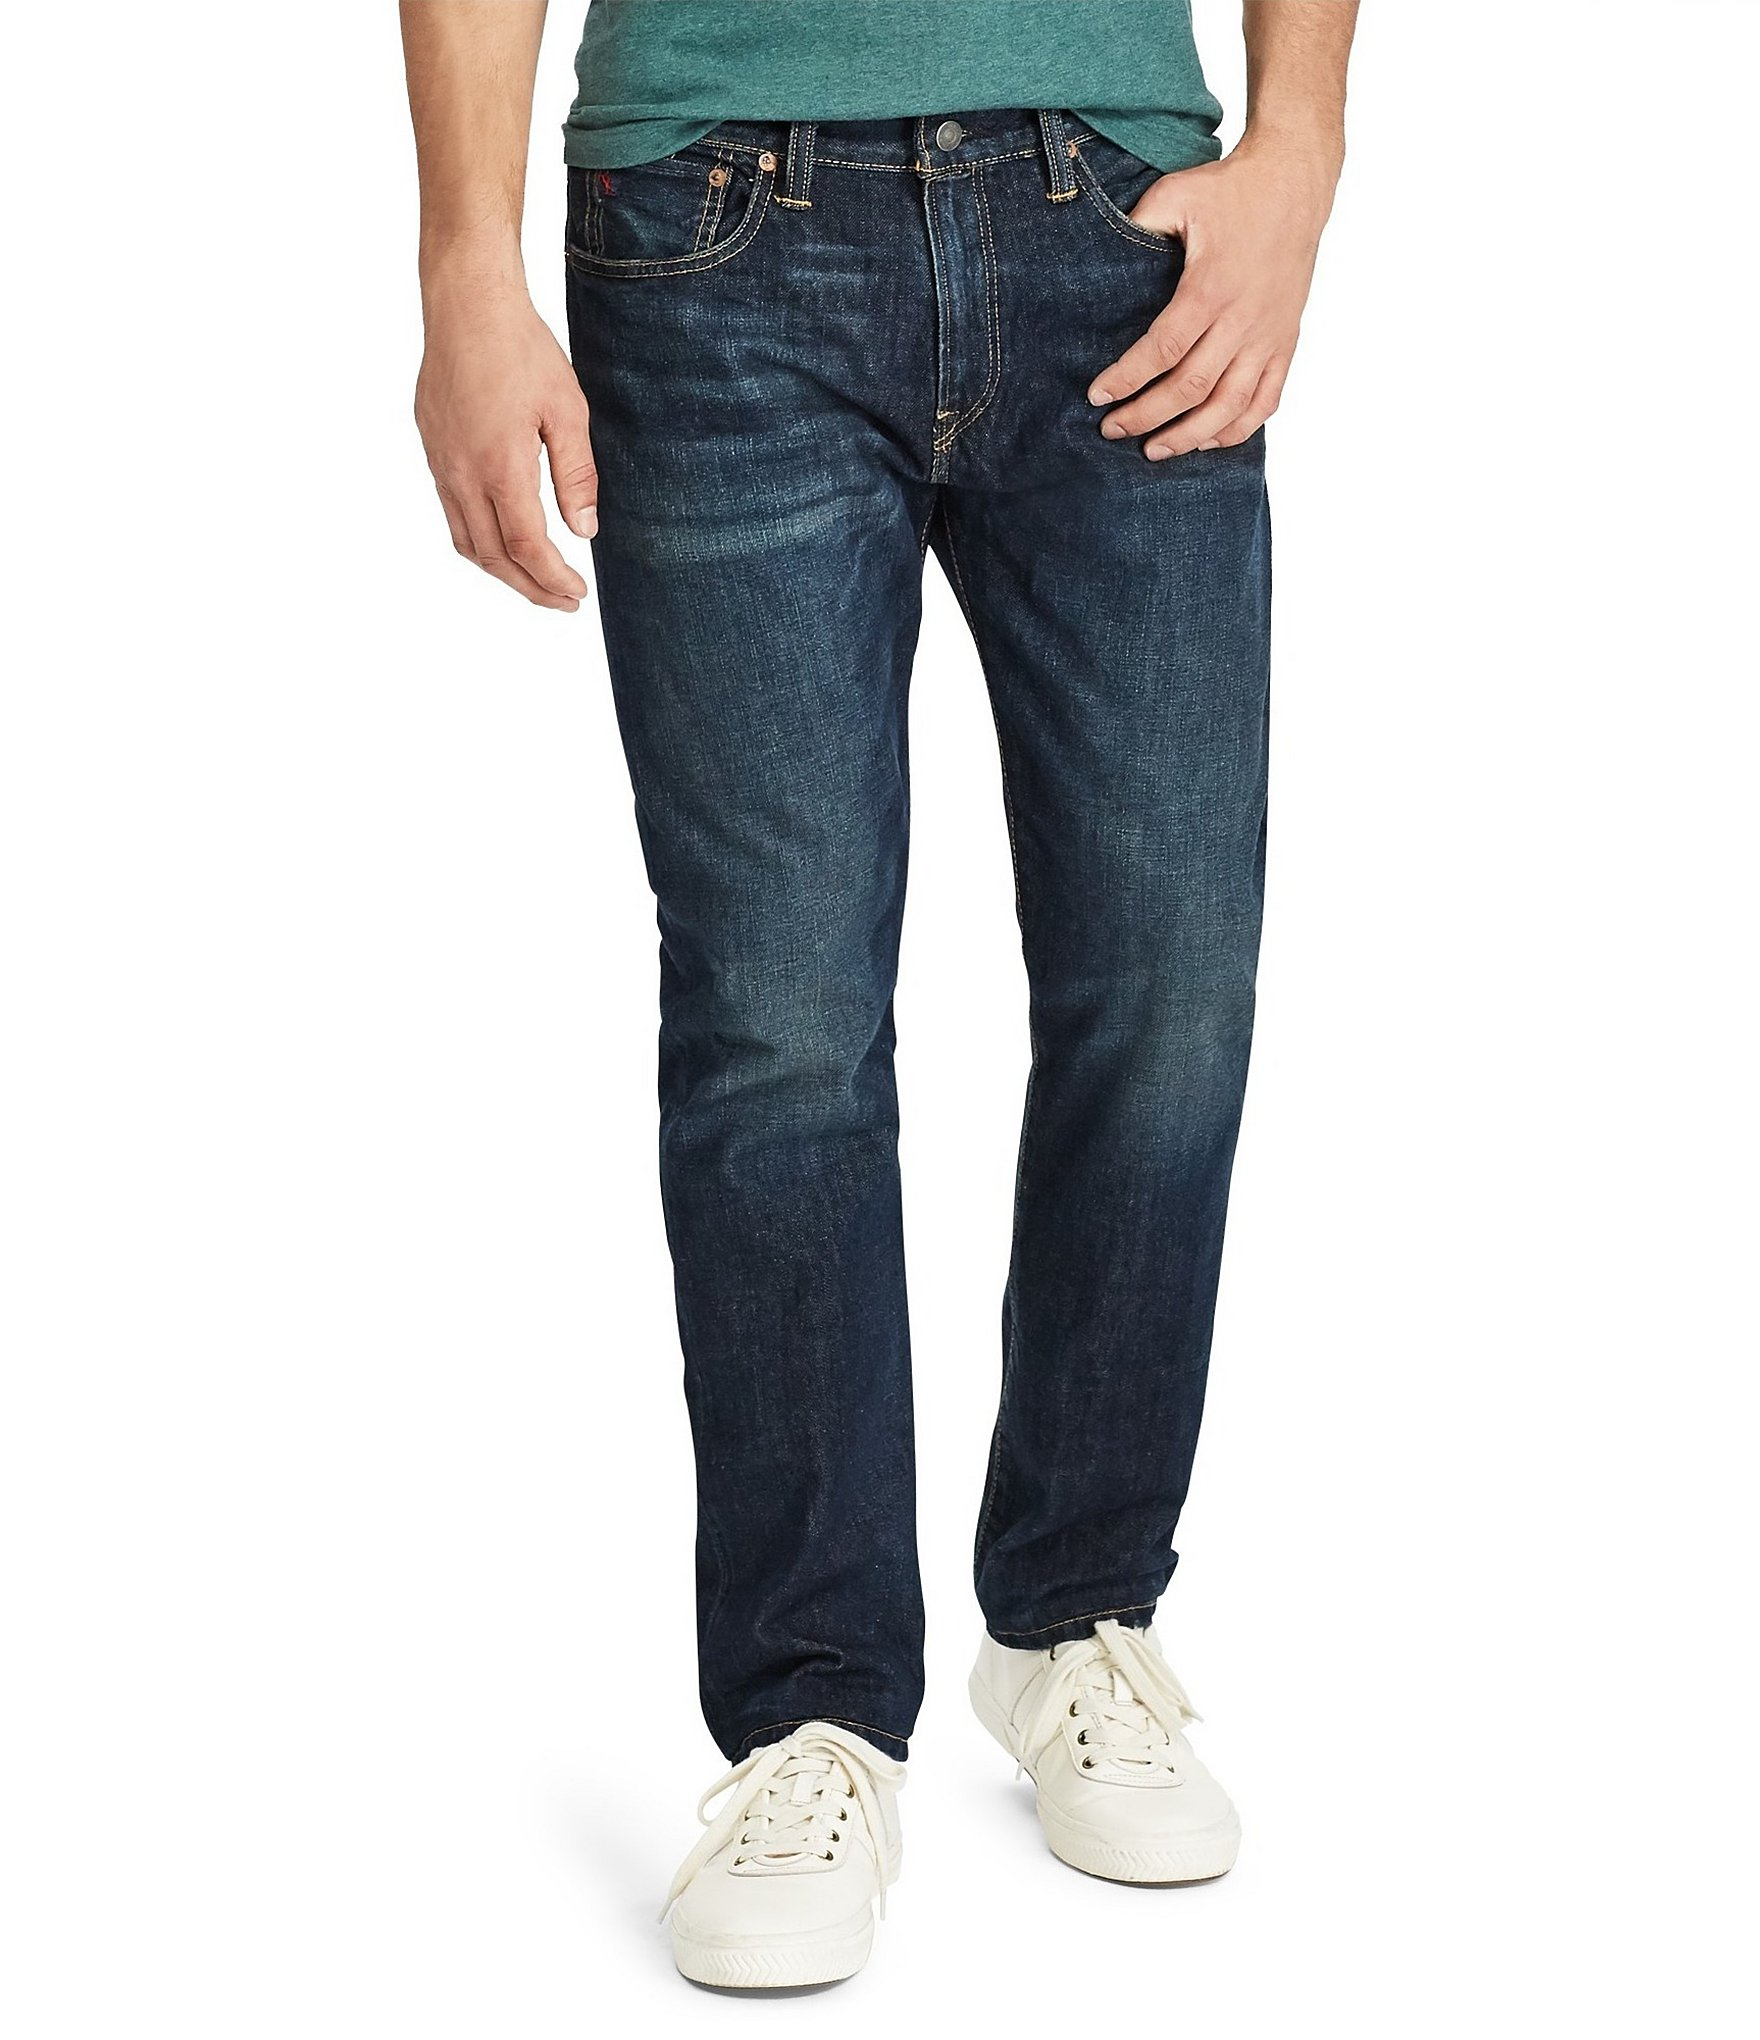Jeans: (513, 114, 1332, 1747)
